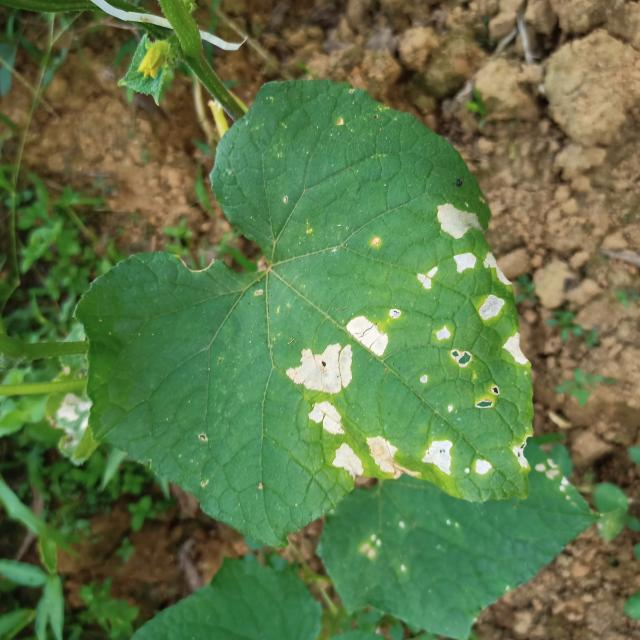disease_cucumber: (291, 316, 390, 392), (419, 198, 484, 288), (418, 437, 494, 481), (329, 434, 399, 477), (430, 322, 476, 372), (481, 253, 509, 325), (304, 400, 348, 436), (501, 330, 533, 364)
